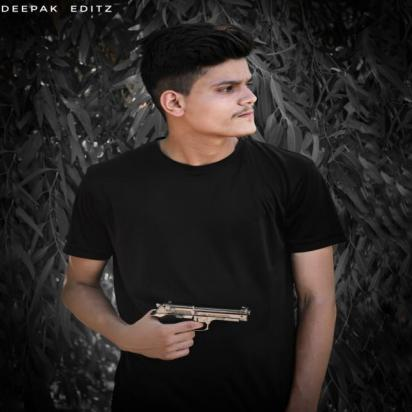Gun: (144, 299, 254, 361)
